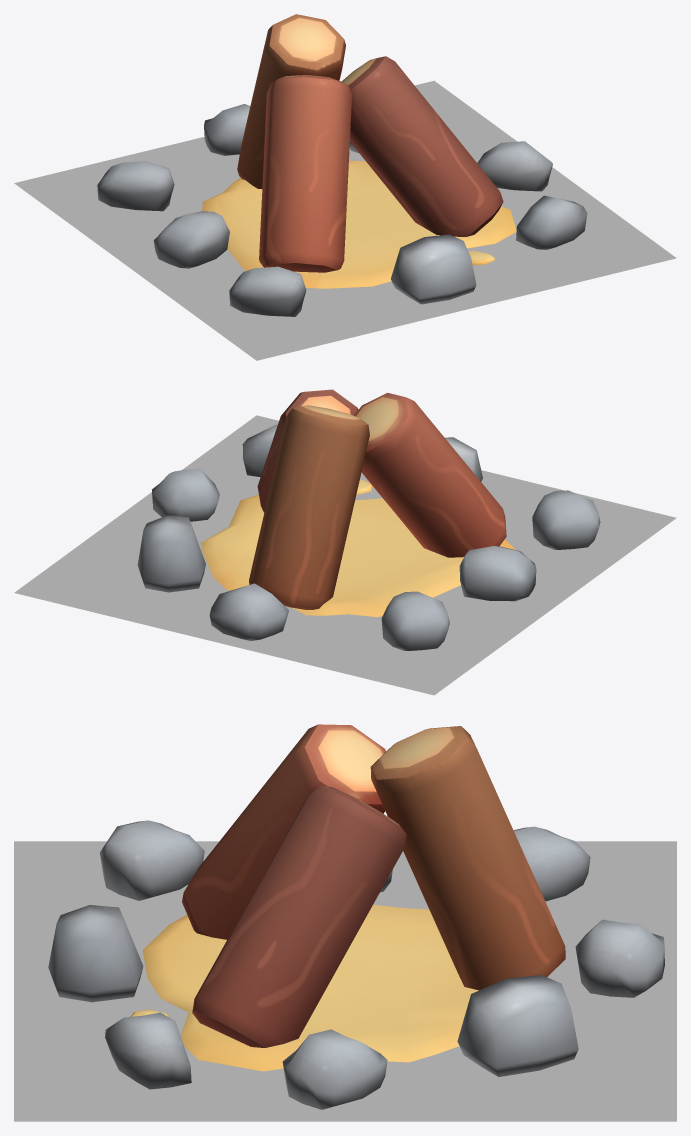
File: Firepit.fbx
3 views of the same model, one above another, from view 1: azimuth 30°, elevation 25°; view 2: azimuth 150°, elevation 25°; view 3: azimuth 270°, elevation 25° (orthographic). The views are drawn at different scales.
Visible parts, largest first — view 1: Firepit, FirepitGrid.001, Mound; view 2: Firepit, FirepitGrid.001, Mound; view 3: Firepit, FirepitGrid.001, Mound.
Part boxes in pixels (x1,y1,x2,y2): Firepit: (97, 14, 587, 316); FirepitGrid.001: (14, 80, 676, 360); Mound: (202, 160, 516, 288); Firepit: (137, 389, 600, 650); FirepitGrid.001: (14, 415, 676, 695); Mound: (201, 479, 515, 616); Firepit: (48, 724, 664, 1109); FirepitGrid.001: (14, 841, 676, 1121); Mound: (130, 904, 478, 1071).
Bounding box in the file's own units: 200 × 88.28 × 200.
